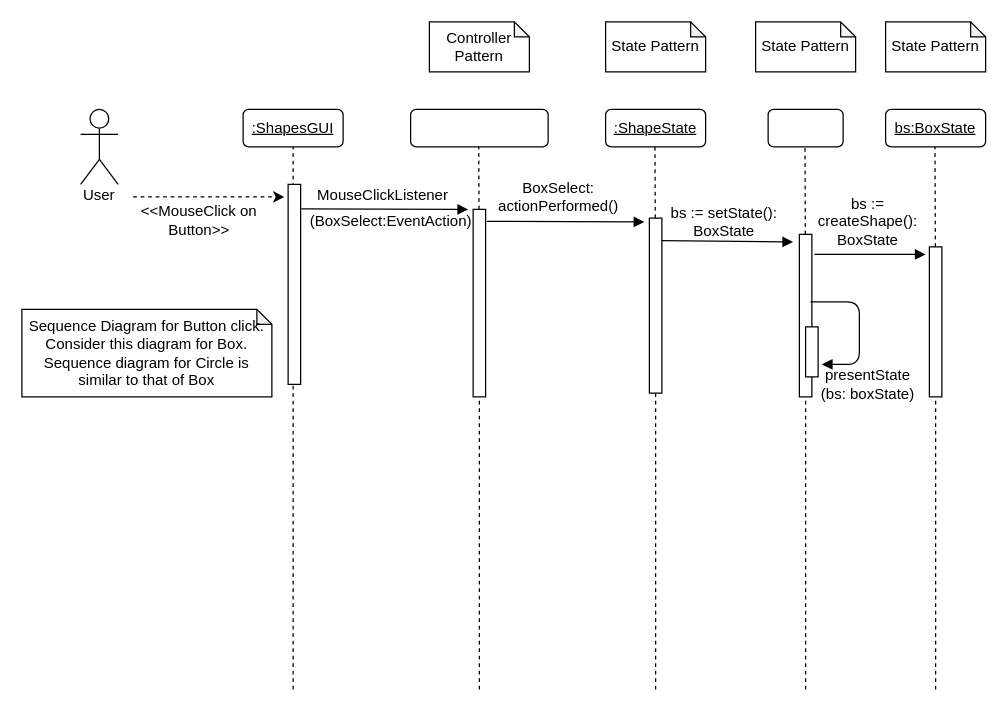
Image size: 1008x713. Some labels were removed from this diagram. Here are the shapes that lost their labels. From the top down, the centre of each, then its label:
(478,127): :PatternController
(805,127): :State
